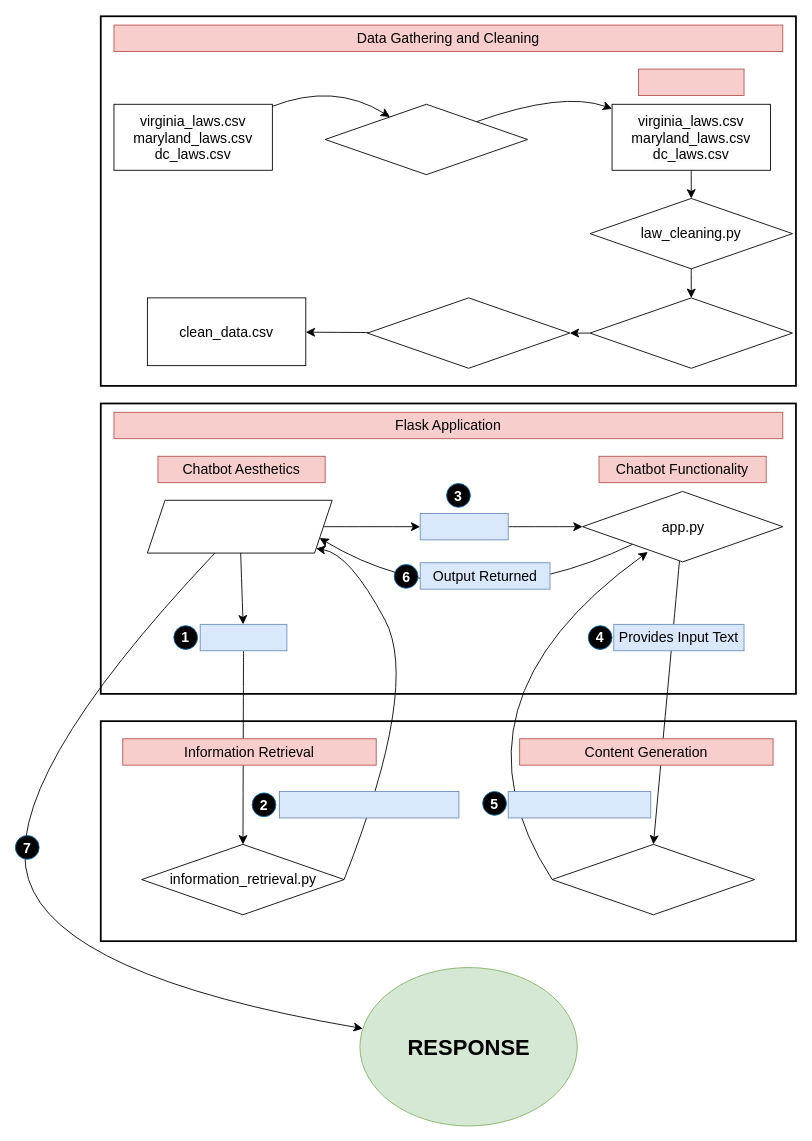
The diagram is 812 pixels wide and 1141 high, and some of its shapes have lost their labels. Here are the shapes that lost their labels. From the top down, the centre of each, then its label:
At [691,81]: "UPDATED".
At [426,139]: "selenium.ipynb".
At [468,332]: "inverse_doc_matrix.py".
At [690,332]: "tf_idf.py".
At [239,526]: "index.html".
At [463,526]: "'loading...'".
At [243,637]: "User Input".
At [369,804]: "Most Similar Law Returned".
At [579,804]: "Summary Returned".
At [653,879]: "summarizer.py".
